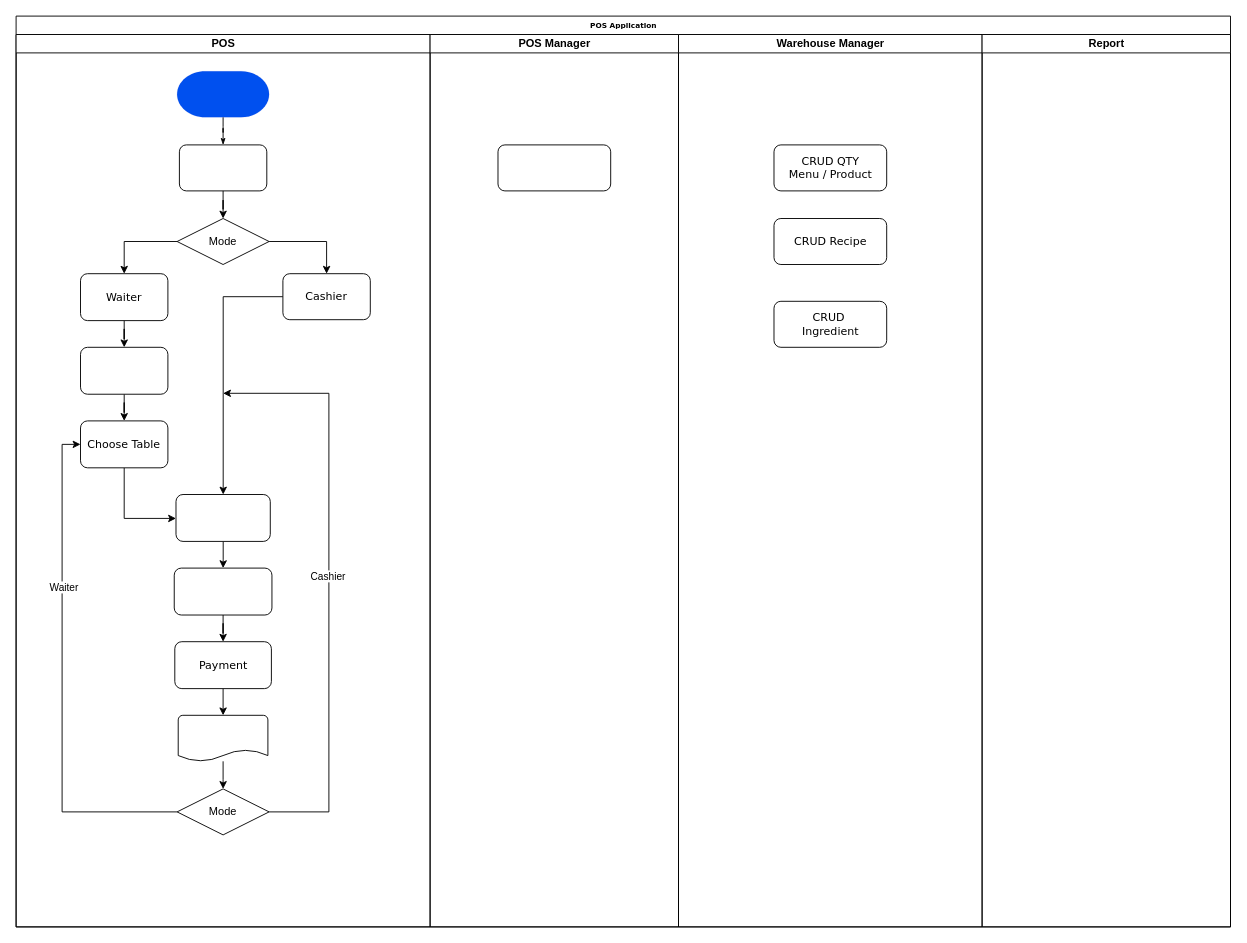
Some shapes in this 1247 by 943 pixel diagram are drawn without their labels. Each missing label, with the centre of its shape:
"Choose Outlet" goes at [124,370].
"CRUD Menu / Product" goes at [554,167].
"Login" goes at [222,167].
"Post To Kitchen" goes at [222,591].
"Print Bill" goes at [222,737].
"Sell Order / Product" goes at [222,517].
"Start" goes at [223,94].
